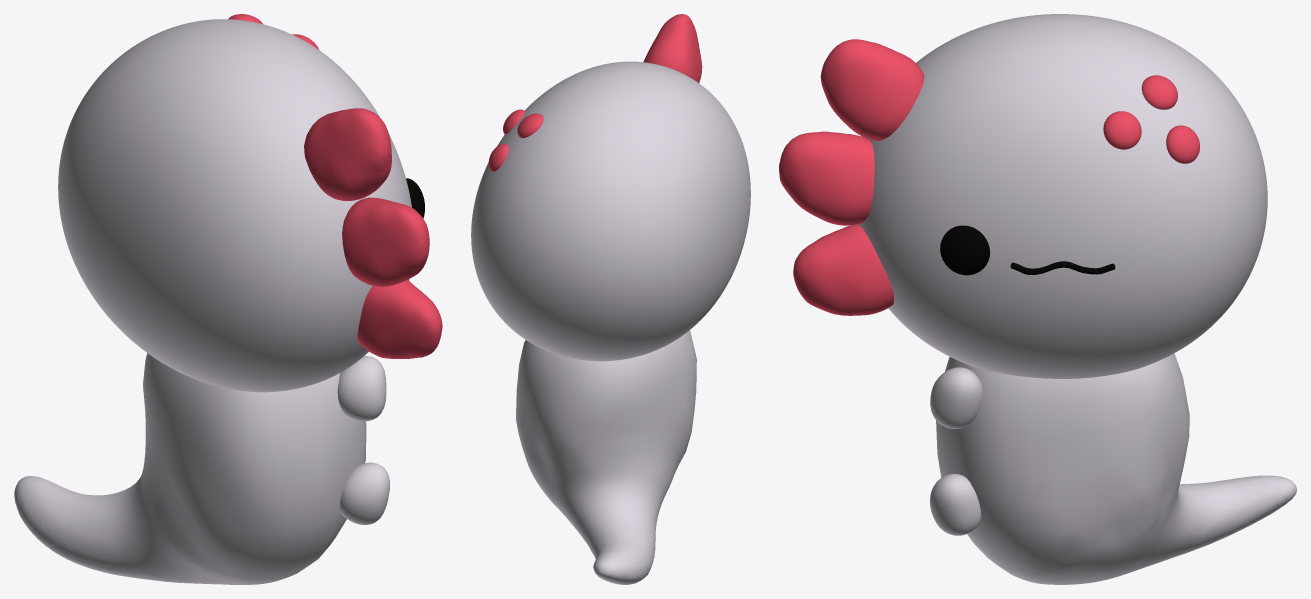
The model's file is Sketchfab_2020_07_27_10_51_17.glb.
3 renders of one model, left to right at view 1: azimuth 30°, elevation 25°; view 2: azimuth 150°, elevation 25°; view 3: azimuth 270°, elevation 25°, orthographic. The views are drawn at different scales.
Visible parts, largest first — view 1: head, body, head-things, legs-up, legs-down; view 2: head, body, head-things, eyes.002; view 3: head, body, head-things, eyes.002, legs-up, legs-down, eyes, Cylindre.
Part boxes in pixels (x1,y1,x2,y2): head: (58,19,411,392); body: (14,353,366,584); head-things: (304,108,442,358); legs-up: (337,356,386,421); legs-down: (340,462,389,524); head: (471,61,750,361); body: (516,330,696,584); head-things: (643,14,702,82); eyes.002: (488,109,543,171); head: (858,14,1267,378); body: (936,353,1296,584); head-things: (779,39,924,315); eyes.002: (1103,75,1199,163); legs-up: (930,367,982,428); legs-down: (930,474,981,535); eyes: (940,225,989,275); Cylindre: (1010,261,1115,274).
Size of the model in its own units: 1.89 by 3.58 by 3.01.
